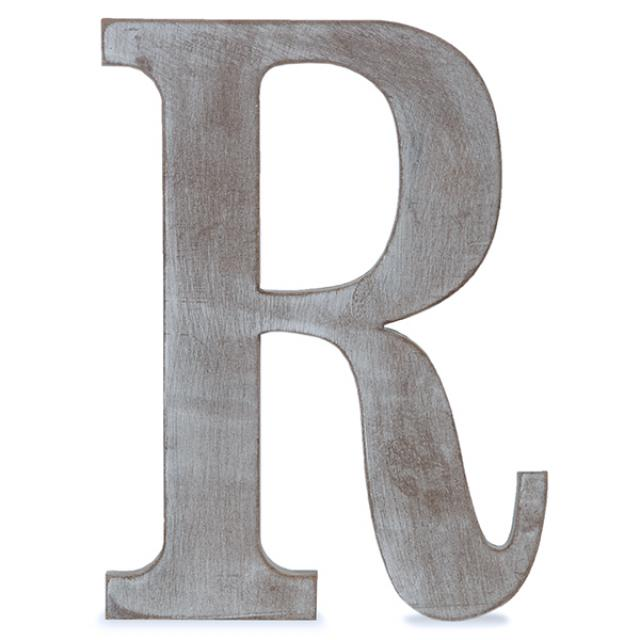R: (71, 10, 566, 622)
